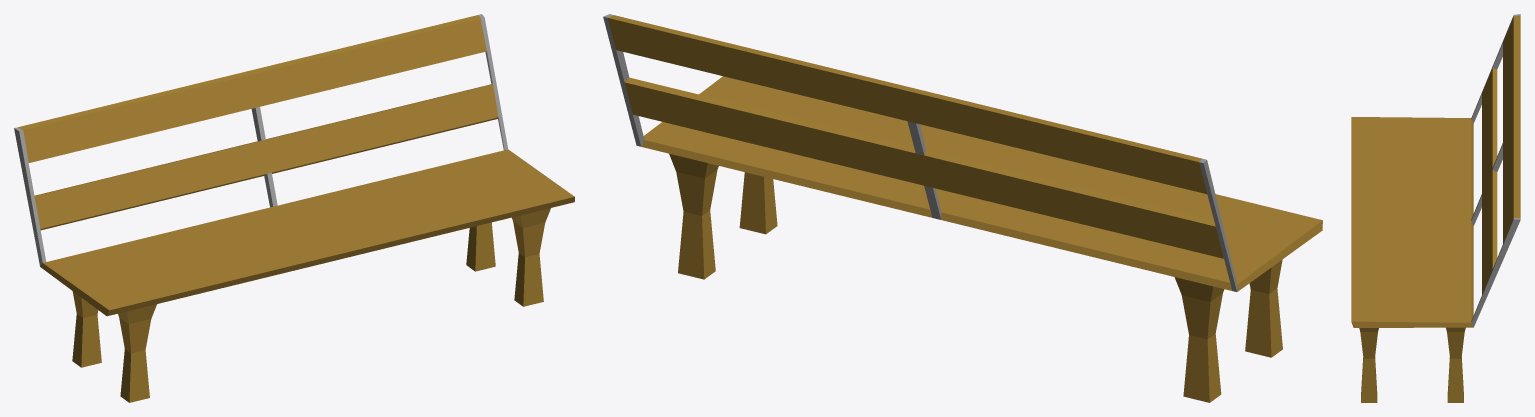
The model's file is banc.fbx.
3 renders of one model, left to right at view 1: azimuth 30°, elevation 25°; view 2: azimuth 150°, elevation 25°; view 3: azimuth 270°, elevation 25°, orthographic. The views are drawn at different scales.
Visible parts, largest first — view 1: Banc; view 2: Banc; view 3: Banc.
Part boxes in pixels (x1,y1,x2,y2): Banc: (14, 14, 574, 402); Banc: (603, 14, 1322, 402); Banc: (1351, 14, 1520, 402).
Bounding box in the file's own units: 448 × 198 × 156.
